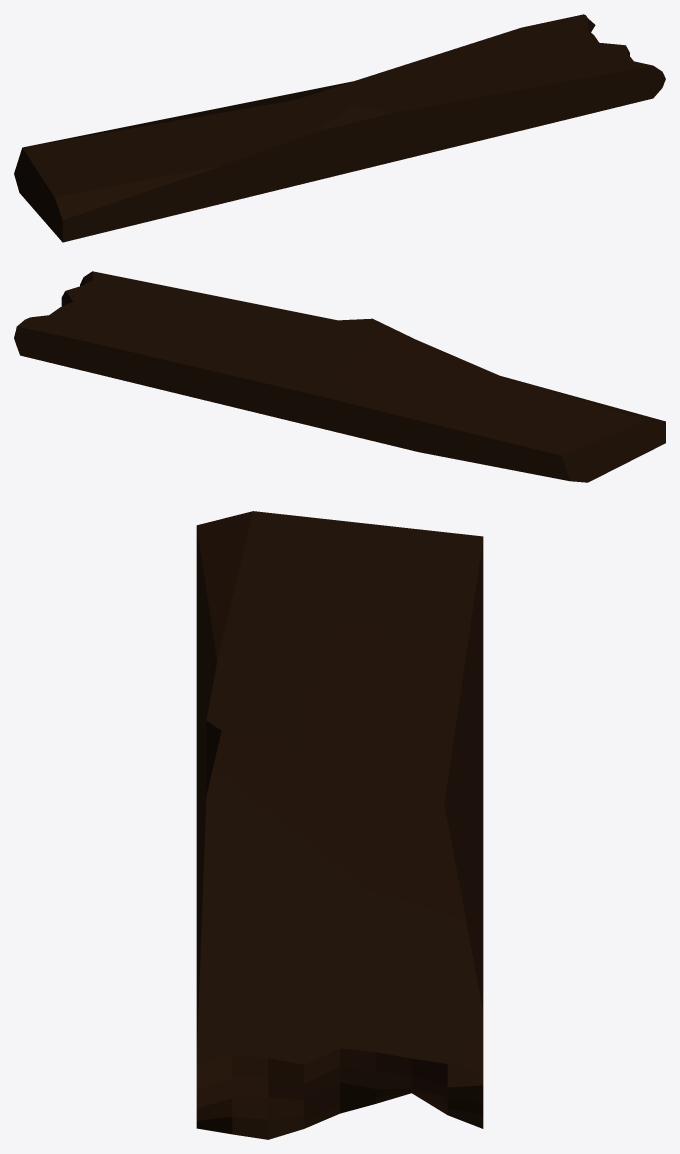
The model's file is wooden plank broken 1.fbx.
3 views of the same model, one above another, from view 1: azimuth 30°, elevation 25°; view 2: azimuth 150°, elevation 25°; view 3: azimuth 270°, elevation 25° (orthographic). The views are drawn at different scales.
Visible parts, largest first — view 1: Wooden_Plank_Broken_1; view 2: Wooden_Plank_Broken_1; view 3: Wooden_Plank_Broken_1.
Part boxes in pixels (<box>): Wooden_Plank_Broken_1: <box>14,14,665,242</box>; Wooden_Plank_Broken_1: <box>14,271,665,482</box>; Wooden_Plank_Broken_1: <box>196,511,483,1139</box>.
Bounding box in the file's own units: 175 × 16.86 × 37.12.
